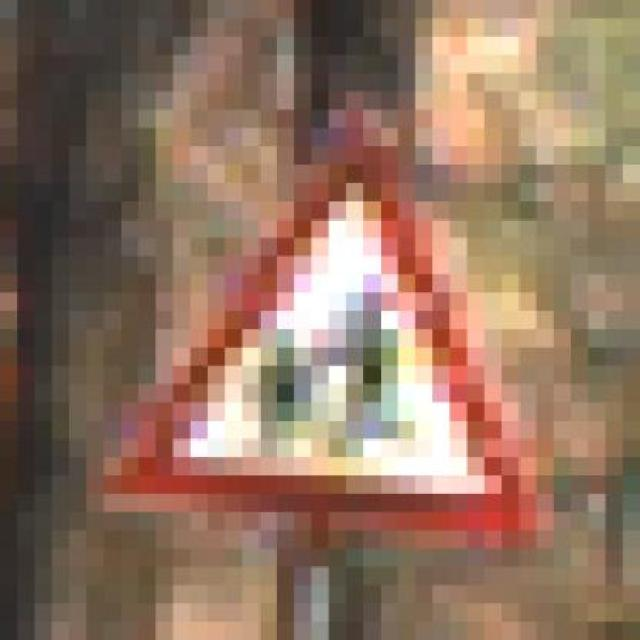Beware of children: (86, 92, 554, 530)
